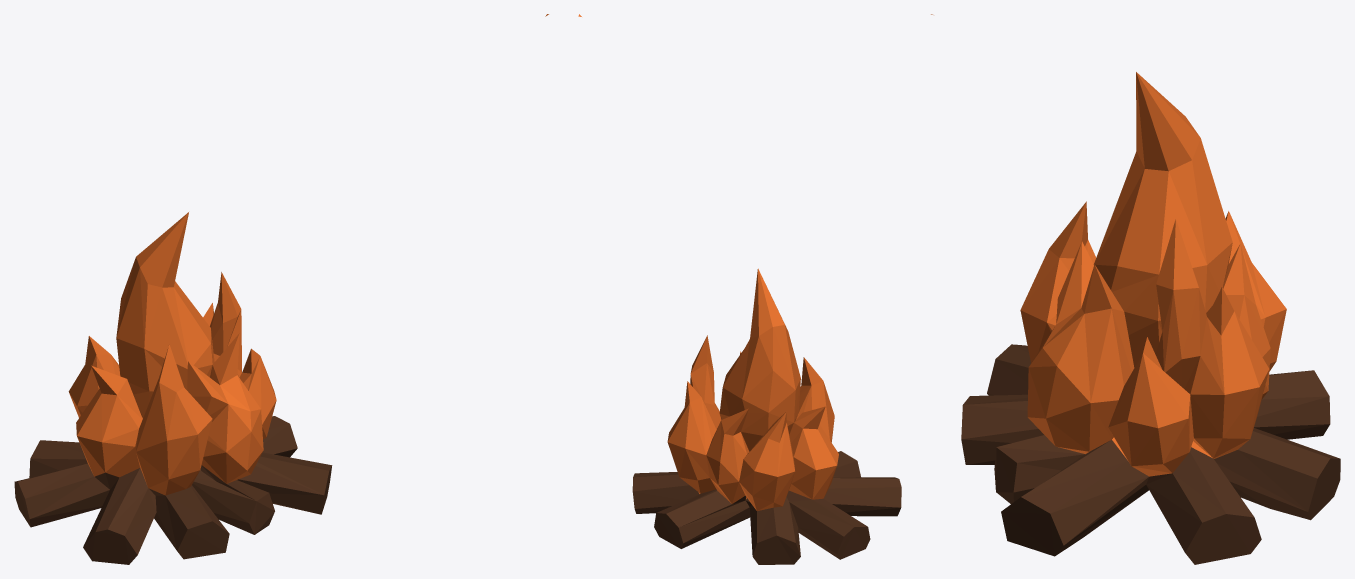
File: Fuego.fbx
3 views of the same model, side by side, from view 1: azimuth 30°, elevation 25°; view 2: azimuth 150°, elevation 25°; view 3: azimuth 270°, elevation 25° (orthographic). The views are drawn at different scales.
Parts seen in each view (by area): view 1: f4263972cc676592783fb323fefd5c35; view 2: f4263972cc676592783fb323fefd5c35; view 3: f4263972cc676592783fb323fefd5c35.
Part boxes in pixels (x1,y1,x2,y2): f4263972cc676592783fb323fefd5c35: [14, 14, 548, 564]; f4263972cc676592783fb323fefd5c35: [578, 14, 901, 564]; f4263972cc676592783fb323fefd5c35: [931, 14, 1340, 564].
Size of the model in its own units: 5250 by 5445 by 3044.
